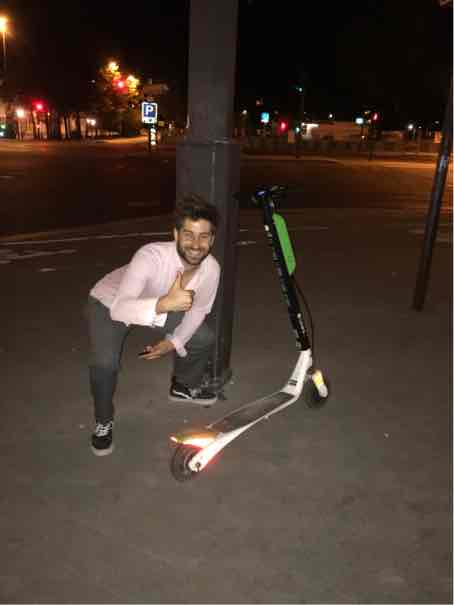scooter: (169, 175, 339, 488)
